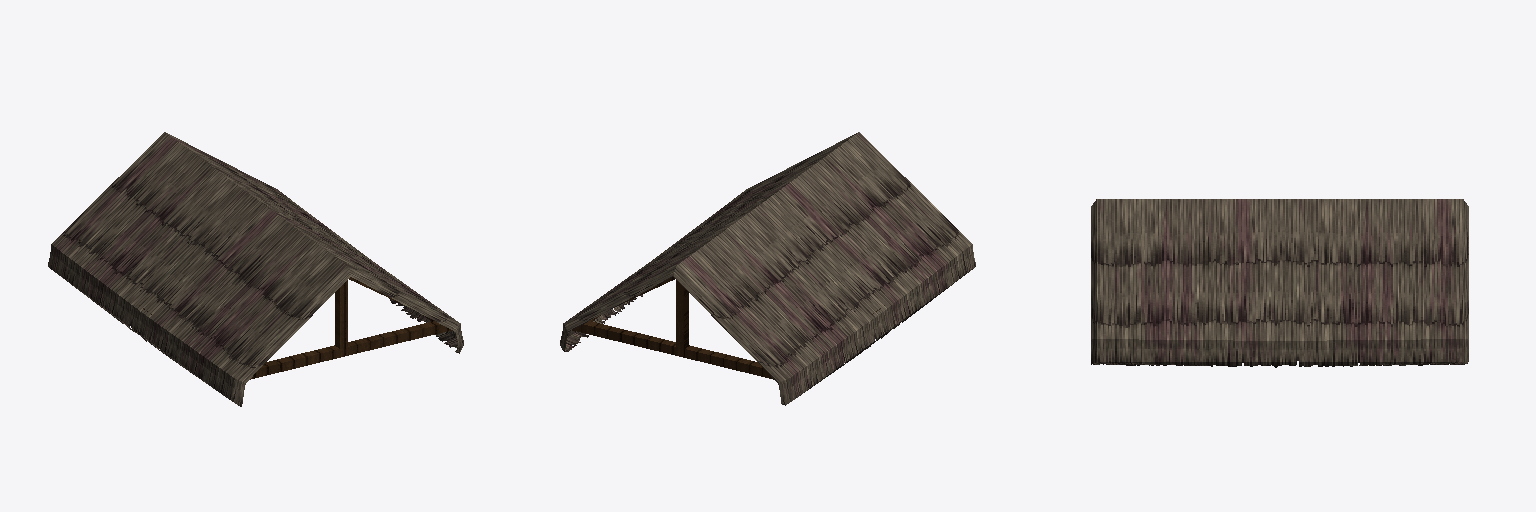
3 views of the same model, side by side, from view 1: azimuth 30°, elevation 25°; view 2: azimuth 150°, elevation 25°; view 3: azimuth 270°, elevation 25° (orthographic).
Parts seen in each view (by area): view 1: Plane.001_Plane.002, Cube; view 2: Plane.001_Plane.002, Cube; view 3: Plane.001_Plane.002.
Part boxes in pixels (bbox=[...]): Plane.001_Plane.002: bbox=[48, 132, 463, 406]; Cube: bbox=[139, 252, 451, 379]; Plane.001_Plane.002: bbox=[560, 132, 975, 405]; Cube: bbox=[572, 252, 884, 379]; Plane.001_Plane.002: bbox=[1091, 199, 1468, 367].
Bounding box in the file's own units: 221 × 103 × 310.
Materials: 2 (2 with a texture image).